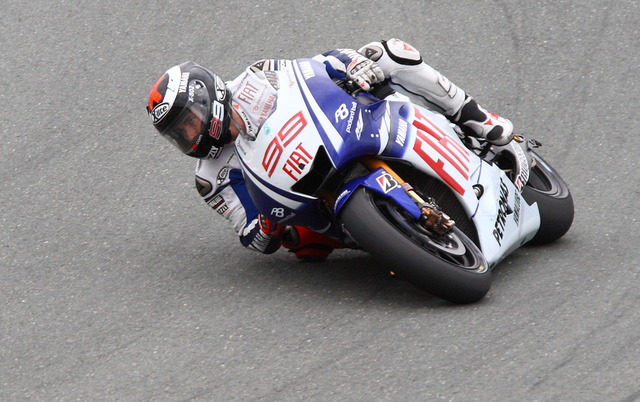helmet: (148, 67, 231, 155)
